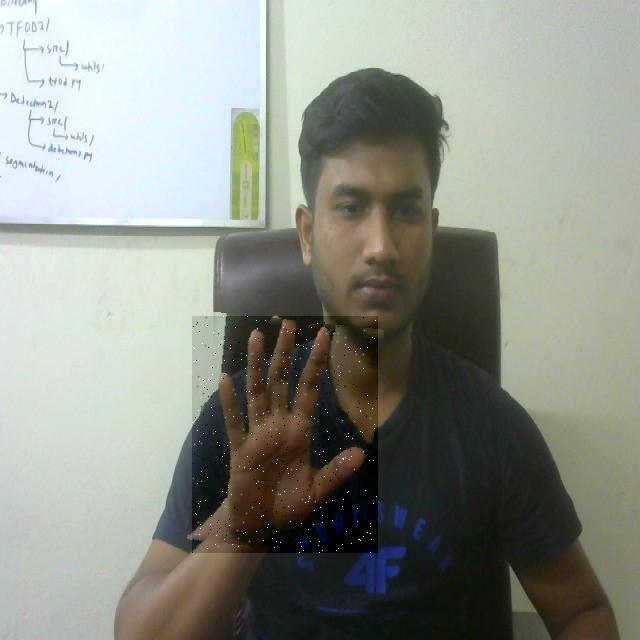Hello: (192, 316, 378, 553)
